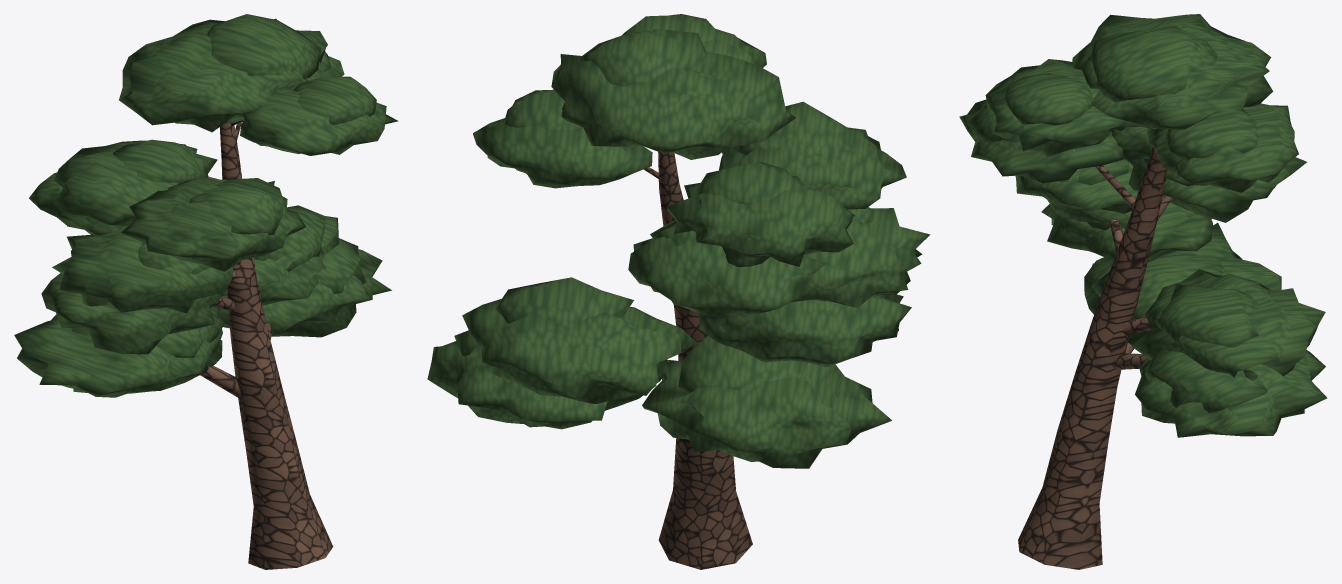
The model's file is HO_Tree_Pine_L.fbx.
The picture shows the model from 3 angles, left to right: view 1: azimuth 30°, elevation 25°; view 2: azimuth 150°, elevation 25°; view 3: azimuth 270°, elevation 25°; orthographic projection. The views are drawn at different scales.
Visible parts, largest first — view 1: HO_Tree_Pine_L__Pine_Needles, HO_Tree_Pine_L__Pine_Bark; view 2: HO_Tree_Pine_L__Pine_Needles, HO_Tree_Pine_L__Pine_Bark; view 3: HO_Tree_Pine_L__Pine_Needles, HO_Tree_Pine_L__Pine_Bark.
Part boxes in pixels (x1=…): HO_Tree_Pine_L__Pine_Needles: x1=14, y1=14, x2=398, y2=397; HO_Tree_Pine_L__Pine_Bark: x1=200, y1=120, x2=333, y2=569; HO_Tree_Pine_L__Pine_Needles: x1=427, y1=14, x2=930, y2=468; HO_Tree_Pine_L__Pine_Bark: x1=644, y1=151, x2=752, y2=569; HO_Tree_Pine_L__Pine_Needles: x1=959, y1=14, x2=1327, y2=437; HO_Tree_Pine_L__Pine_Bark: x1=1018, y1=147, x2=1171, y2=569.
Bounding box in the file's own units: 18.47 × 23.21 × 14.65.
